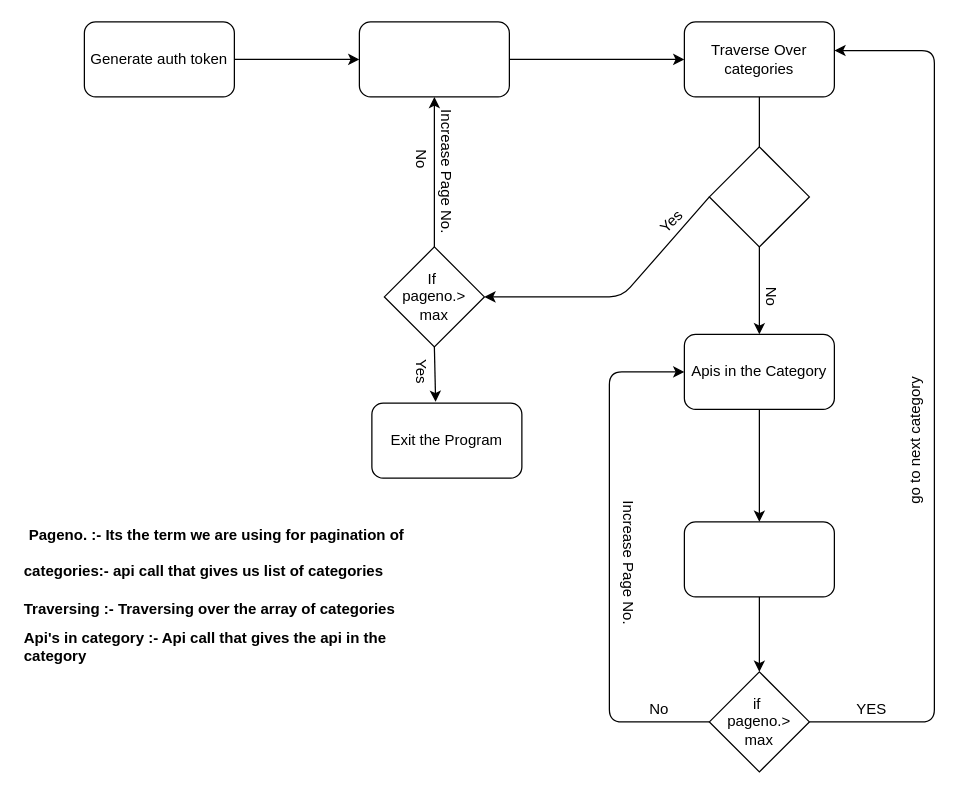
The diagram is 966 pixels wide and 794 high, and some of its shapes have lost their labels. Each missing label, with the centre of its shape:
Categories: the point at 433,59
Store api in MongoDB database: the point at 758,559
traverse completed: the point at 758,196
